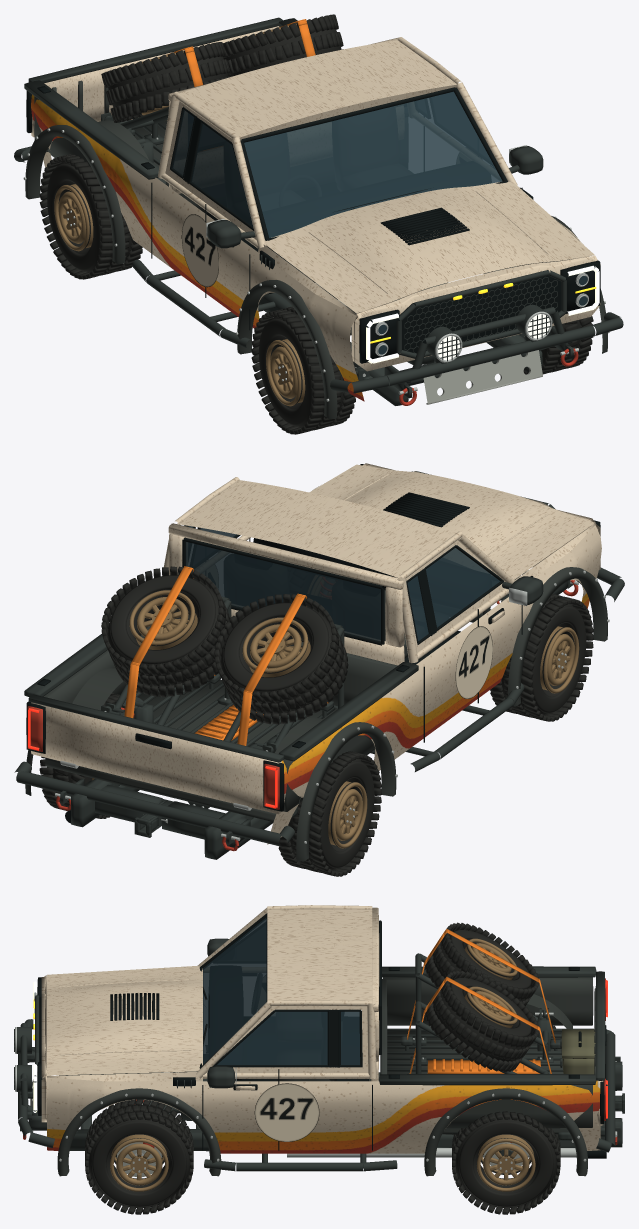
The model's file is baja-427.glb.
3 views of the same model, one above another, from view 1: azimuth 30°, elevation 25°; view 2: azimuth 150°, elevation 25°; view 3: azimuth 270°, elevation 25° (orthographic). The views are drawn at different scales.
Parts seen in each view (by area): view 1: body.baja427.ivory_enamel, cab.baja427.smoked_glazing, wheel.baja427.tyre_rubber (×3), body.baja427.ivory_side_livery_and_dust, spare.baja427.tyre_rubber (×2), front.baja427.tube_coating, front.baja427.recess_black, body.baja427.flare_charcoal, cab.baja427.ivory_enamel, wheel.baja427.bronze_rim (×2), cab.baja427.recess_black, front.baja427.skid_aluminium (+15 smaller); view 2: body.baja427.ivory_enamel, spare.baja427.tyre_rubber (×2), wheel.baja427.tyre_rubber (×3), body.baja427.ivory_side_livery_and_dust, cab.baja427.smoked_glazing, tailgate.baja427.ivory_enamel, bed.baja427.flare_charcoal, cab.baja427.ivory_enamel, rear.baja427.tube_coating, body.baja427.flare_charcoal, bed.baja427.tube_coating, spare.baja427.bronze_rim (×2) (+14 smaller); view 3: body.baja427.ivory_enamel, body.baja427.ivory_side_livery_and_dust, wheel.baja427.tyre_rubber (×2), cab.baja427.smoked_glazing, spare.baja427.tyre_rubber (×2), bed.baja427.flare_charcoal, cab.baja427.ivory_enamel, body.baja427.flare_charcoal, bed.baja427.tube_coating, wheel.baja427.bronze_rim (×2), cab.baja427.recess_black, livery.baja427.427_roundel (+15 smaller).
Part boxes in pixels (bbox=[...]): body.baja427.ivory_enamel: bbox=[179, 40, 597, 318]; cab.baja427.smoked_glazing: bbox=[172, 91, 502, 238]; wheel.baja427.tyre_rubber (×3): bbox=[39, 154, 593, 434]; body.baja427.ivory_side_livery_and_dust: bbox=[31, 94, 364, 401]; spare.baja427.tyre_rubber (×2): bbox=[101, 14, 343, 122]; front.baja427.tube_coating: bbox=[330, 270, 623, 398]; front.baja427.recess_black: bbox=[359, 260, 600, 363]; body.baja427.flare_charcoal: bbox=[25, 125, 607, 419]; cab.baja427.ivory_enamel: bbox=[158, 37, 517, 248]; wheel.baja427.bronze_rim (×2): bbox=[54, 184, 305, 406]; cab.baja427.recess_black: bbox=[170, 87, 507, 294]; front.baja427.skid_aluminium: bbox=[423, 350, 542, 404]; body.baja427.ivory_enamel: bbox=[177, 464, 595, 580]; spare.baja427.tyre_rubber (×2): bbox=[101, 566, 348, 724]; wheel.baja427.tyre_rubber (×3): bbox=[39, 594, 593, 876]; body.baja427.ivory_side_livery_and_dust: bbox=[267, 525, 601, 844]; cab.baja427.smoked_glazing: bbox=[186, 526, 500, 641]; tailgate.baja427.ivory_enamel: bbox=[31, 702, 281, 814]; bed.baja427.flare_charcoal: bbox=[43, 614, 397, 821]; cab.baja427.ivory_enamel: bbox=[164, 477, 514, 665]; rear.baja427.tube_coating: bbox=[14, 761, 294, 859]; body.baja427.flare_charcoal: bbox=[25, 567, 607, 861]; bed.baja427.tube_coating: bbox=[24, 634, 418, 761]; spare.baja427.bronze_rim (×2): bbox=[129, 590, 310, 677]; body.baja427.ivory_enamel: bbox=[42, 909, 372, 1081]; body.baja427.ivory_side_livery_and_dust: bbox=[47, 1077, 600, 1153]; wheel.baja427.tyre_rubber (×2): bbox=[85, 1099, 560, 1214]; cab.baja427.smoked_glazing: bbox=[203, 917, 360, 1064]; spare.baja427.tyre_rubber (×2): bbox=[425, 922, 539, 1072]; bed.baja427.flare_charcoal: bbox=[380, 977, 593, 1134]; cab.baja427.ivory_enamel: bbox=[196, 905, 379, 1081]; body.baja427.flare_charcoal: bbox=[57, 1088, 587, 1176]; bed.baja427.tube_coating: bbox=[379, 966, 596, 1085]; wheel.baja427.bronze_rim (×2): bbox=[110, 1134, 535, 1191]; cab.baja427.recess_black: bbox=[199, 913, 381, 1081]; livery.baja427.427_roundel: bbox=[254, 1010, 319, 1141].
Bounding box in the file's own units: 2.82 × 1.96 × 5.3.
Materials: 19 (3 with a texture image).
